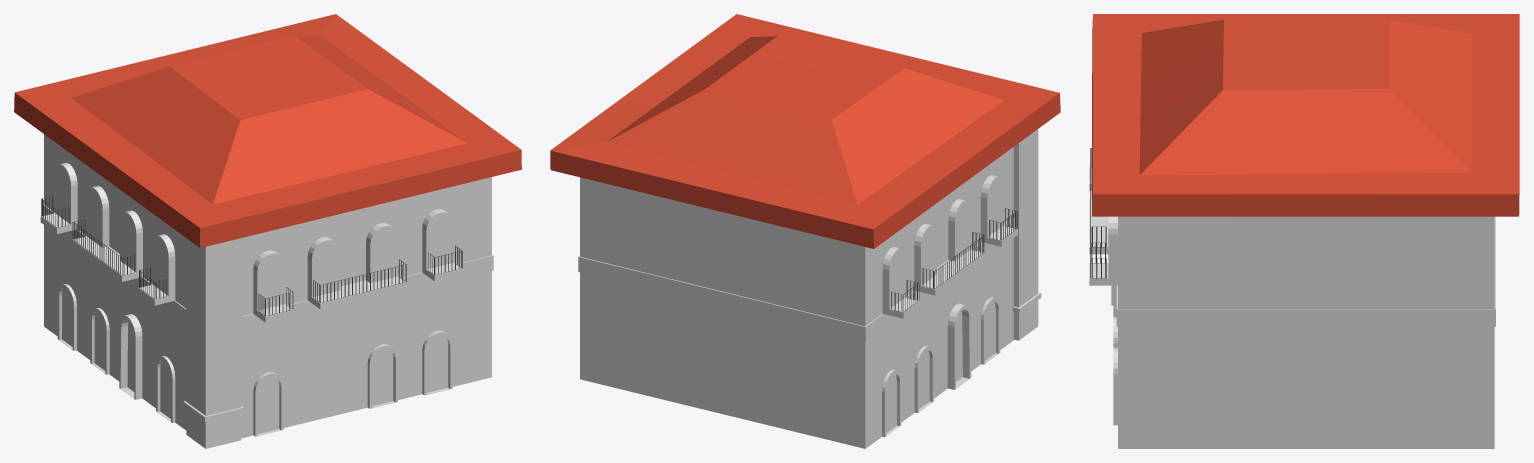
File: CasaMenu.fbx
3 renders of one model, left to right at view 1: azimuth 30°, elevation 25°; view 2: azimuth 150°, elevation 25°; view 3: azimuth 270°, elevation 25°, orthographic. The views are drawn at different scales.
Visible parts, largest first — view 1: Roof, Walls, Pilar, Window6, Window2, Window5, Window8, Door2, Window6Gnd, Window1, Window4, Window2Gnd (+8 smaller); view 2: Walls, Roof, Pilar, Window2, Door2, Window4, Window1, Window2Gnd, WindowGrid, Door3, Door4, Door1.001; view 3: Walls, Roof, Window6Gnd, Window5, Window5Gnd.
Boxes of the visible parts, left/top/right/bottom form: Roof: left=14, top=14, right=521, bottom=247; Walls: left=43, top=134, right=493, bottom=438; Pilar: left=183, top=238, right=244, bottom=448; Window6: left=307, top=223, right=398, bottom=297; Window2: left=86, top=186, right=142, bottom=272; Window5: left=422, top=209, right=454, bottom=269; Window8: left=253, top=250, right=285, bottom=310; Door2: left=119, top=314, right=142, bottom=399; Window6Gnd: left=307, top=276, right=406, bottom=309; Window1: left=152, top=234, right=175, bottom=296; Window4: left=54, top=162, right=77, bottom=224; Window2Gnd: left=72, top=236, right=142, bottom=281; Walls: left=578, top=147, right=1014, bottom=448; Roof: left=550, top=14, right=1060, bottom=248; Pilar: left=1012, top=129, right=1041, bottom=340; Window2: left=914, top=199, right=971, bottom=285; Door2: left=947, top=303, right=971, bottom=389; Window4: left=882, top=247, right=905, bottom=309; Window1: left=980, top=175, right=1003, bottom=237; Window2Gnd: left=914, top=249, right=985, bottom=295; WindowGrid: left=922, top=232, right=984, bottom=288; Door3: left=914, top=345, right=933, bottom=412; Door4: left=882, top=369, right=901, bottom=437; Door1.001: left=981, top=297, right=1000, bottom=364; Walls: left=1116, top=216, right=1495, bottom=448; Roof: left=1092, top=14, right=1519, bottom=216; Window6Gnd: left=1089, top=198, right=1108, bottom=254; Window5: left=1108, top=216, right=1117, bottom=278; Window5Gnd: left=1089, top=263, right=1117, bottom=285.
Bounding box in the file's own units: 1141 × 924 × 1139.
